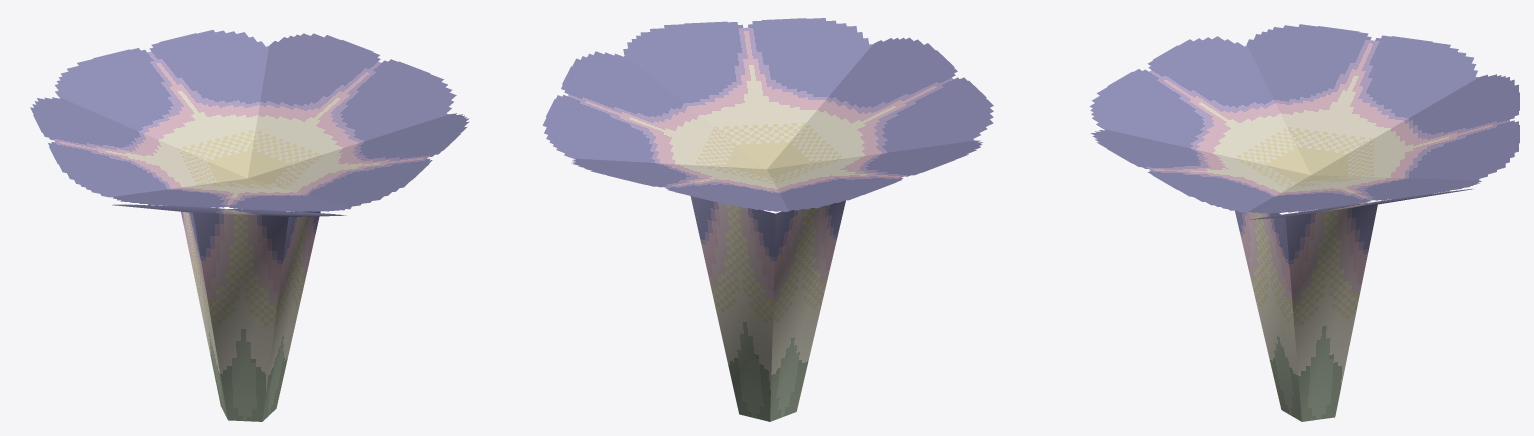
The model's file is 04e7_Blue_Morning_Glory.glb.
The picture shows the model from 3 angles, left to right: view 1: azimuth 30°, elevation 25°; view 2: azimuth 150°, elevation 25°; view 3: azimuth 270°, elevation 25°; orthographic projection. The views are drawn at different scales.
Parts seen in each view (by area): view 1: part_0; view 2: part_0; view 3: part_0.
Part boxes in pixels (x1,y1,x2,y2): part_0: (30, 30, 469, 421); part_0: (542, 18, 993, 421); part_0: (1089, 24, 1519, 421).
Bounding box in the file's own units: 0.1255 × 0.0825 × 0.1194.
1 material, 1 textured.
